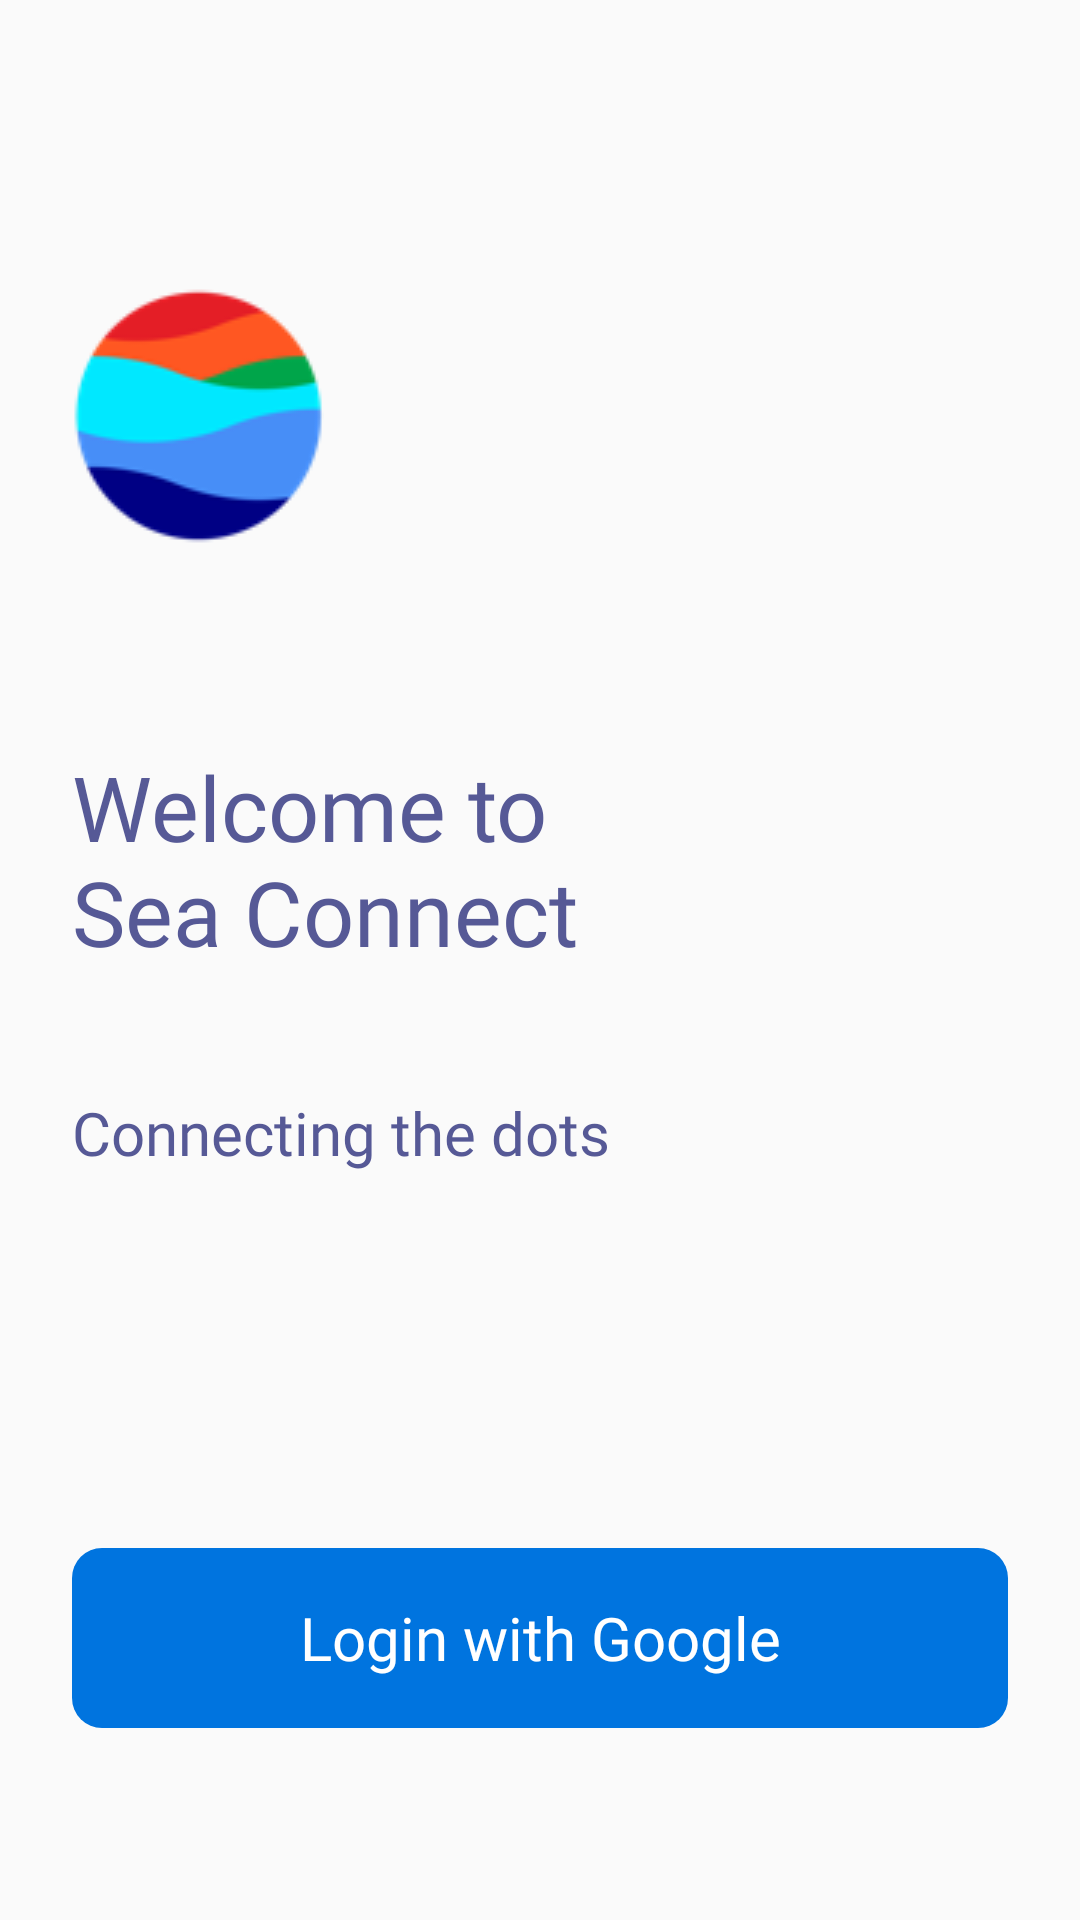

Screen size 1080px x 1920px. Icon name, then its box in pixels as (x1, y1, x2, y2):
sea: (74, 290, 322, 542)
